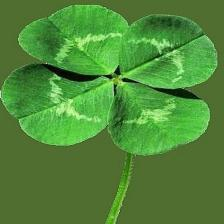green: (2, 64, 113, 146), (18, 5, 128, 75), (108, 83, 210, 155), (119, 15, 217, 88)
